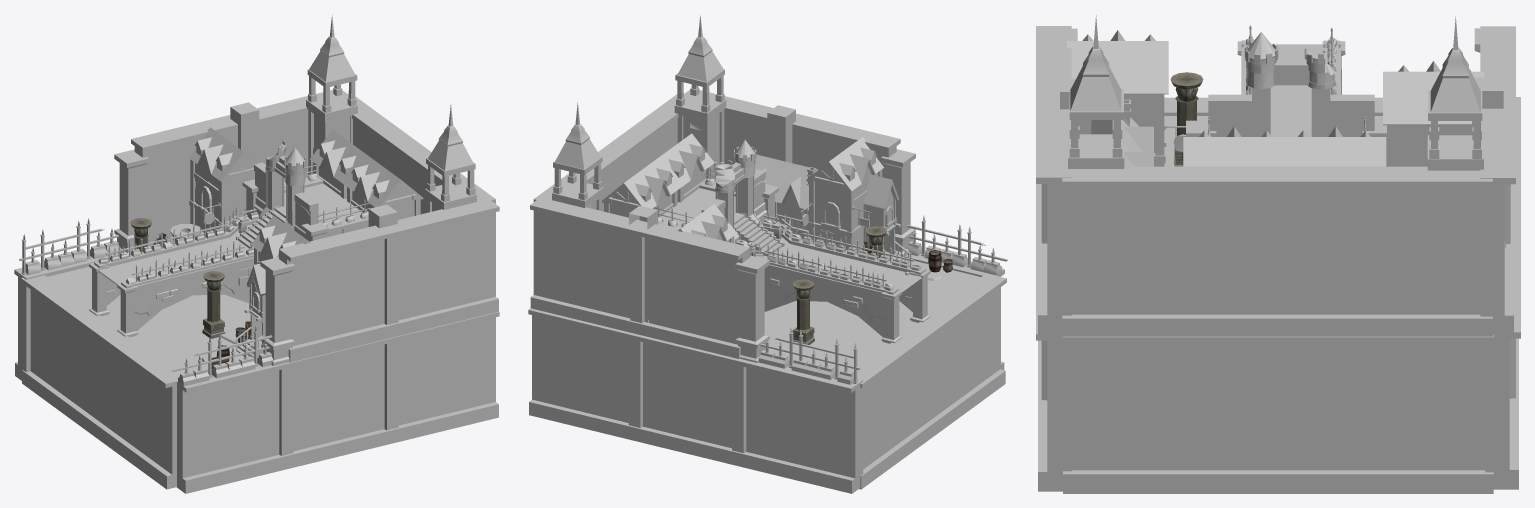
File: BridgeStart.fbx
3 views of the same model, side by side, from view 1: azimuth 30°, elevation 25°; view 2: azimuth 150°, elevation 25°; view 3: azimuth 270°, elevation 25° (orthographic). The views are drawn at different scales.
Visible parts, largest first — view 1: BridgeStart; view 2: BridgeStart; view 3: BridgeStart.
Part boxes in pixels (<box>): BridgeStart: <box>14,14,499,493</box>; BridgeStart: <box>528,15,1007,493</box>; BridgeStart: <box>1036,15,1520,493</box>.
Size of the model in its own units: 40.29 by 35.86 by 34.46.
